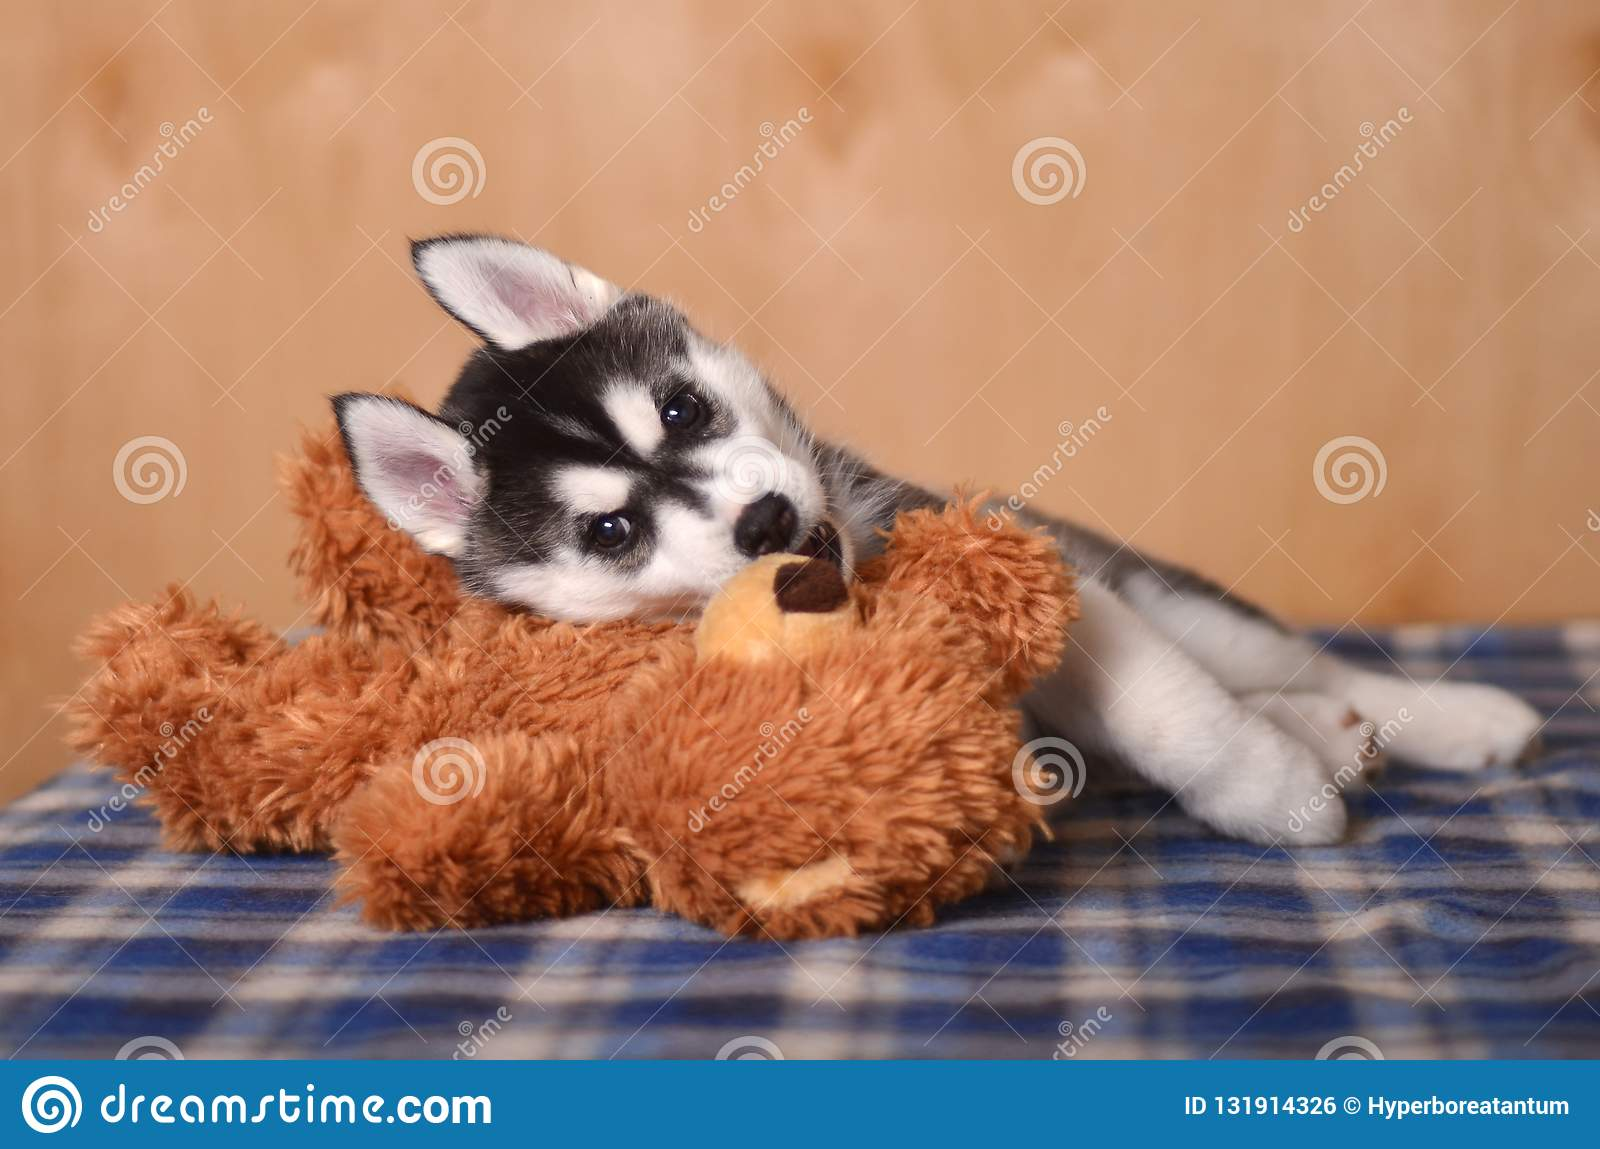husky: (320, 204, 1581, 891)
